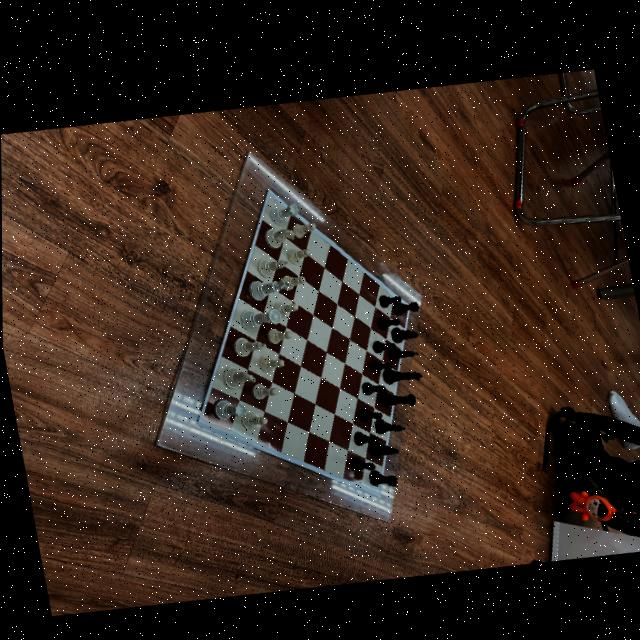chessboard-corner: (192, 410, 204, 426), (371, 488, 384, 499), (262, 182, 273, 192), (405, 297, 413, 306)
